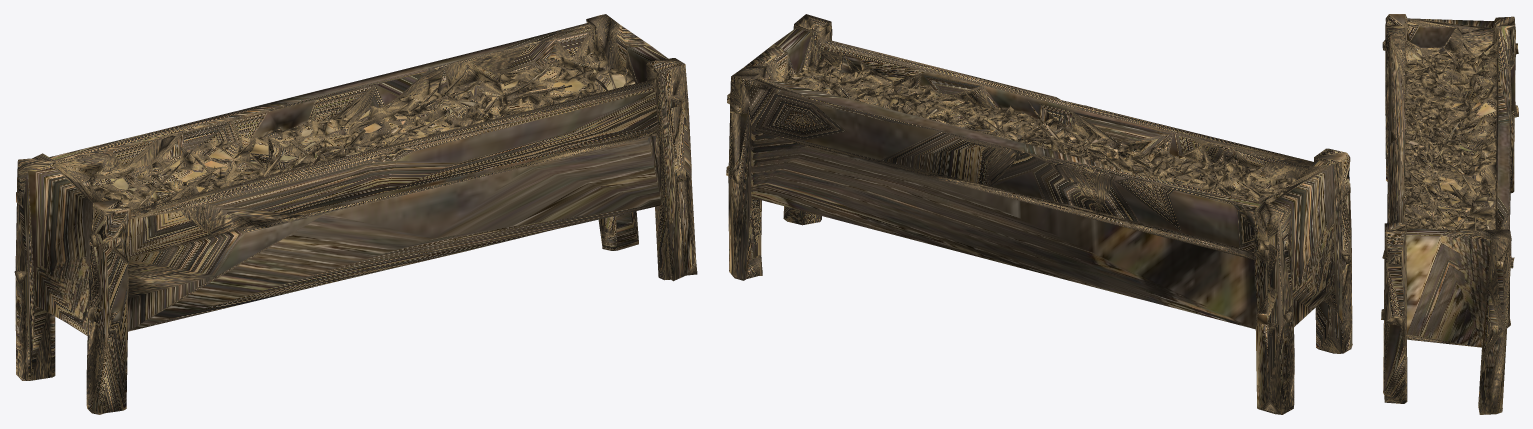
The model's file is straight-feeding-trough.glb.
The picture shows the model from 3 angles, left to right: view 1: azimuth 30°, elevation 25°; view 2: azimuth 150°, elevation 25°; view 3: azimuth 270°, elevation 25°; orthographic projection. The views are drawn at different scales.
Visible parts, largest first — view 1: geometry_0; view 2: geometry_0; view 3: geometry_0.
Boxes of the visible parts, left/top/right/bottom form: geometry_0: left=14, top=14, right=697, bottom=414; geometry_0: left=726, top=14, right=1352, bottom=414; geometry_0: left=1381, top=14, right=1518, bottom=414.
Bounding box in the file's own units: 1.8 × 0.6466 × 0.4495.
Materials: 1 (1 with a texture image).
